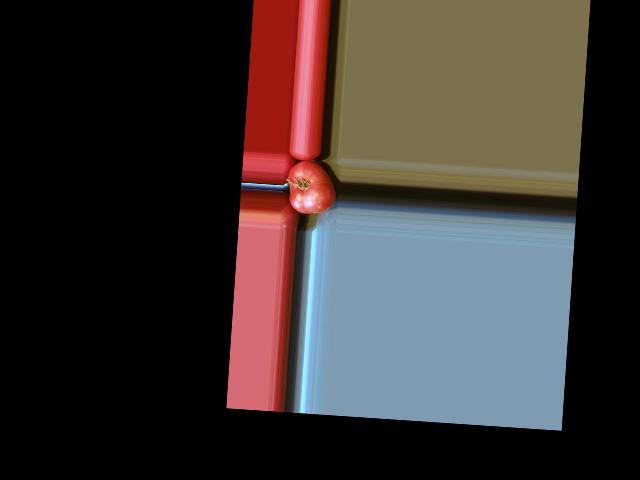tomato: (286, 159, 338, 215)
